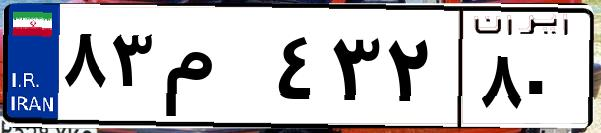0: (525, 38, 570, 115)
2: (385, 28, 445, 110)
3: (330, 28, 385, 110), (110, 28, 158, 98)
4: (270, 28, 330, 110)
8: (57, 26, 110, 100), (475, 38, 525, 113)
م: (158, 20, 270, 120)
